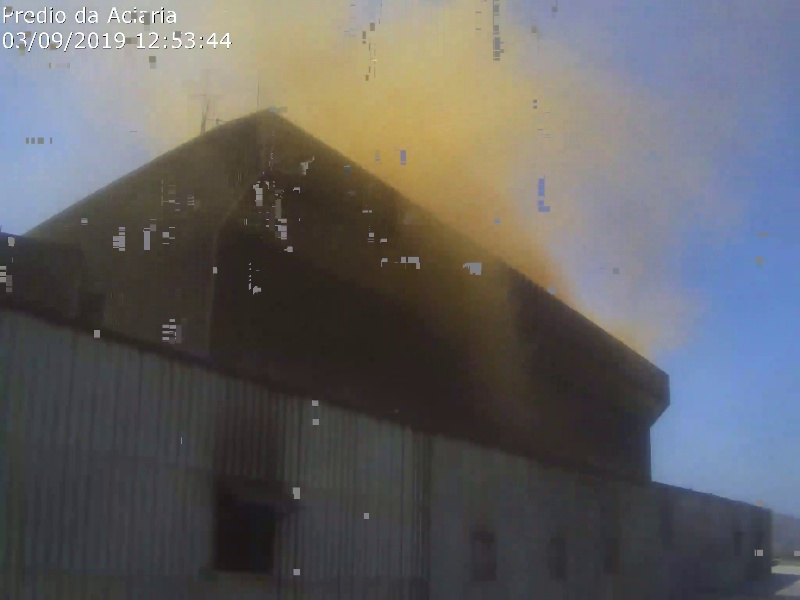Galpao: (1, 230, 670, 600)
Janela: (220, 469, 285, 585)
Pessimo: (336, 80, 494, 147), (319, 73, 464, 137), (432, 122, 520, 210), (389, 93, 458, 187), (216, 51, 326, 104), (520, 101, 584, 186), (423, 177, 484, 204), (460, 205, 530, 225), (483, 226, 553, 246)
